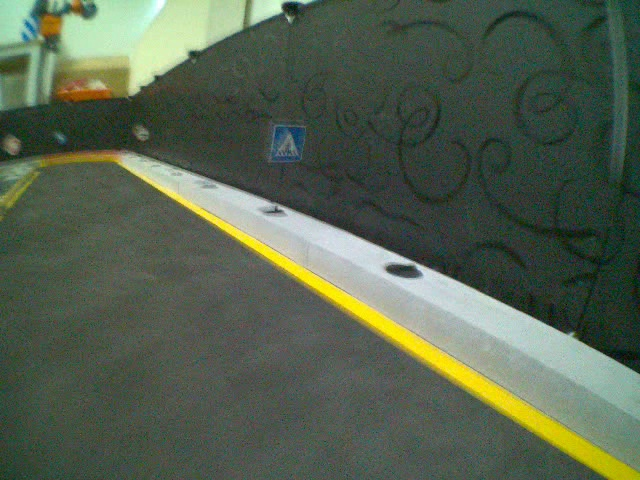crossing: (268, 123, 308, 163)
